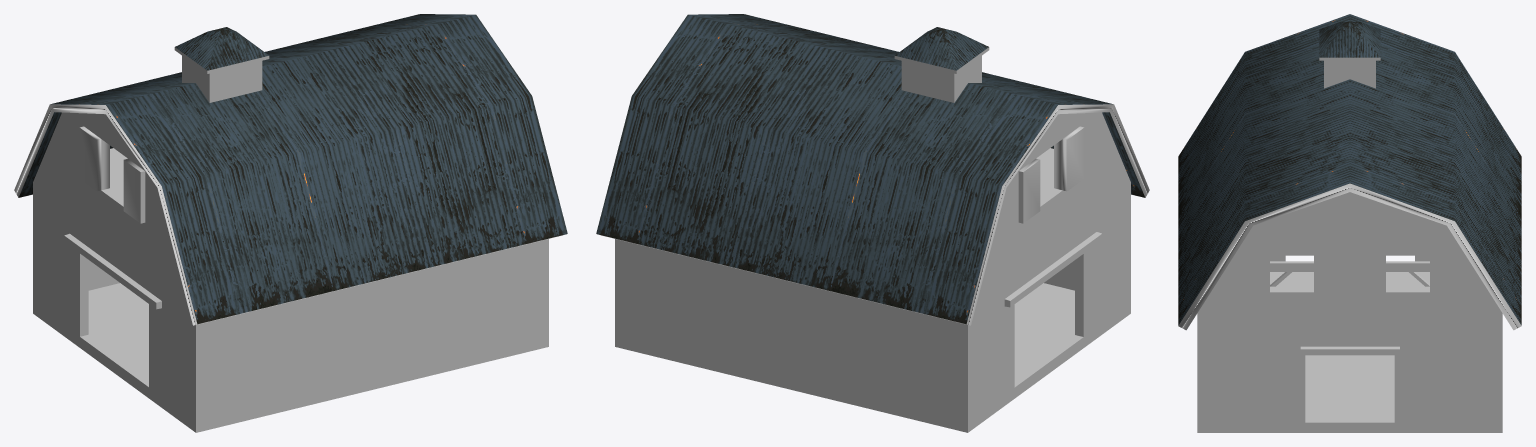
File: barnNew.fbx
3 views of the same model, side by side, from view 1: azimuth 30°, elevation 25°; view 2: azimuth 150°, elevation 25°; view 3: azimuth 270°, elevation 25° (orthographic). The views are drawn at different scales.
Parts seen in each view (by area): view 1: BarnNew; view 2: BarnNew; view 3: BarnNew.
Boxes of the visible parts, left/top/right/bottom form: BarnNew: left=14, top=14, right=567, bottom=432; BarnNew: left=596, top=14, right=1149, bottom=432; BarnNew: left=1178, top=14, right=1521, bottom=432.
Size of the model in its own units: 23.8 by 19.56 by 20.4.
